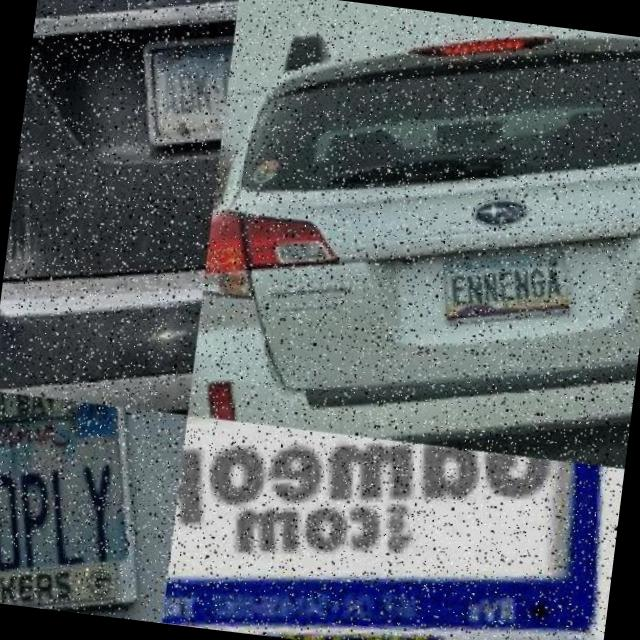LicensePlate: (163, 415, 581, 640), (0, 390, 175, 621), (160, 591, 602, 640), (145, 31, 233, 146), (442, 246, 576, 321)
